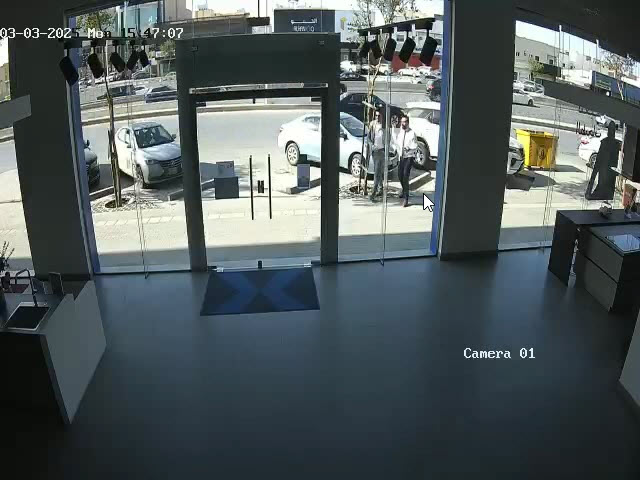employee: (393, 114, 418, 207), (367, 111, 385, 197)
other: (585, 122, 622, 201)
